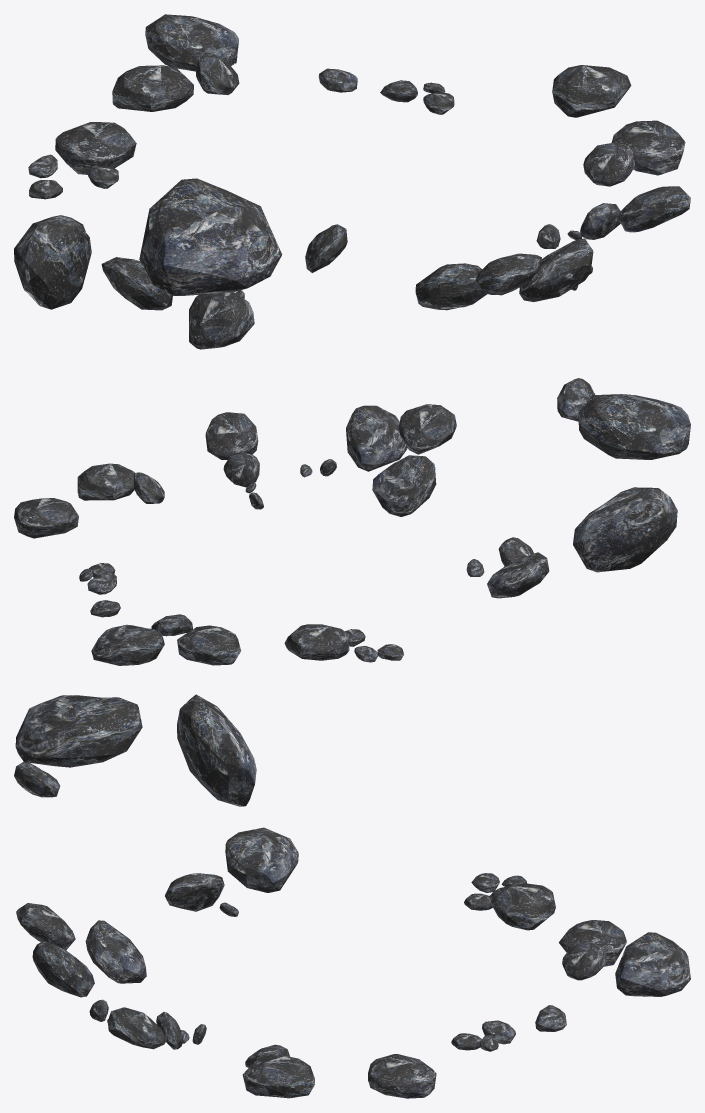
File: Rocks.glb
3 renders of one model, top to bottom at view 1: azimuth 30°, elevation 25°; view 2: azimuth 150°, elevation 25°; view 3: azimuth 270°, elevation 25°, orthographic. The views are drawn at different scales.
Visible parts, largest first — view 1: Sphere.008, Sphere.007, Sphere.021, Sphere.015, Sphere.019, Sphere.002, Sphere.023, Sphere.040, Sphere.011, Sphere.034, Sphere.038, Sphere.001 (+11 smaller); view 2: Sphere.007, Sphere.008, Sphere.040, Sphere.034, Sphere.021, Sphere.035, Sphere.015, Sphere.023, Sphere.038, Sphere.019, Sphere.011, Sphere.001 (+6 smaller); view 3: Sphere.008, Sphere.007, Sphere.021, Sphere.001, Sphere.034, Sphere.011, Sphere.015, Sphere.019, Sphere.040, Sphere.002, Sphere.023, Sphere.038 (+5 smaller).
Part boxes in pixels (<box>): Sphere.008: <box>139,178,282,295</box>; Sphere.007: <box>14,215,91,309</box>; Sphere.021: <box>145,14,238,71</box>; Sphere.015: <box>552,65,631,117</box>; Sphere.019: <box>55,122,136,174</box>; Sphere.002: <box>189,292,254,349</box>; Sphere.023: <box>112,65,193,111</box>; Sphere.040: <box>519,238,593,301</box>; Sphere.011: <box>611,120,685,175</box>; Sphere.034: <box>415,263,487,310</box>; Sphere.038: <box>618,186,690,232</box>; Sphere.001: <box>101,257,172,310</box>; Sphere.007: <box>573,487,677,572</box>; Sphere.008: <box>578,394,690,459</box>; Sphere.040: <box>346,405,407,471</box>; Sphere.034: <box>372,455,436,516</box>; Sphere.021: <box>91,624,164,665</box>; Sphere.035: <box>399,404,456,454</box>; Sphere.015: <box>14,498,78,538</box>; Sphere.023: <box>177,625,240,665</box>; Sphere.038: <box>205,412,258,459</box>; Sphere.019: <box>284,624,349,660</box>; Sphere.011: <box>77,463,134,500</box>; Sphere.001: <box>487,552,549,598</box>; Sphere.008: <box>15,695,142,767</box>; Sphere.007: <box>177,694,256,806</box>; Sphere.021: <box>615,932,690,996</box>; Sphere.001: <box>225,827,298,892</box>; Sphere.034: <box>85,920,146,983</box>; Sphere.011: <box>242,1055,314,1098</box>; Sphere.015: <box>368,1054,436,1098</box>; Sphere.019: <box>489,883,555,930</box>; Sphere.040: <box>32,940,94,997</box>; Sphere.002: <box>165,873,224,911</box>; Sphere.023: <box>559,920,626,966</box>; Sphere.038: <box>107,1007,167,1049</box>.
Bounding box in the file's own units: 484 × 135 × 452.
1 material, 1 textured.
